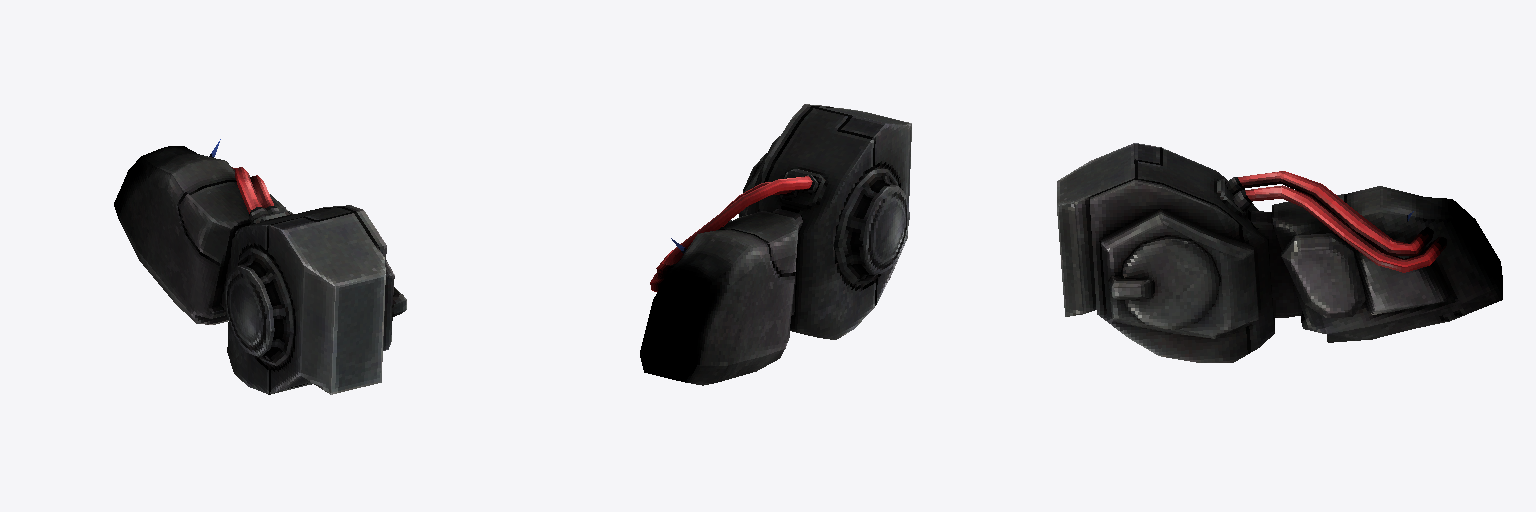
3 views of the same model, side by side, from view 1: azimuth 30°, elevation 25°; view 2: azimuth 150°, elevation 25°; view 3: azimuth 270°, elevation 25° (orthographic).
Visible parts, largest first — view 1: Feedbacker_0; view 2: Feedbacker_0; view 3: Feedbacker_0.
Part boxes in pixels (x1,y1,x2,y2): Feedbacker_0: (114, 139, 406, 394); Feedbacker_0: (640, 104, 911, 385); Feedbacker_0: (1057, 143, 1502, 362).
Bounding box in the file's own units: 0.0357 × 0.0448 × 0.1004.
Materials: 1 (1 with a texture image).